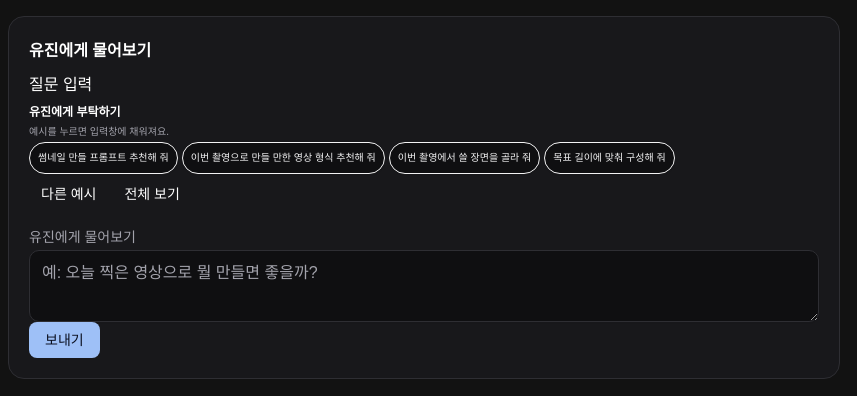
Scenario: HomeYujinChat › shows a plain message when Yujin cannot answer
The image size is (857, 396).
Type "안녕" into the text box labelled "유진에게 물어보기" at (424,286), box [29, 250, 819, 322]
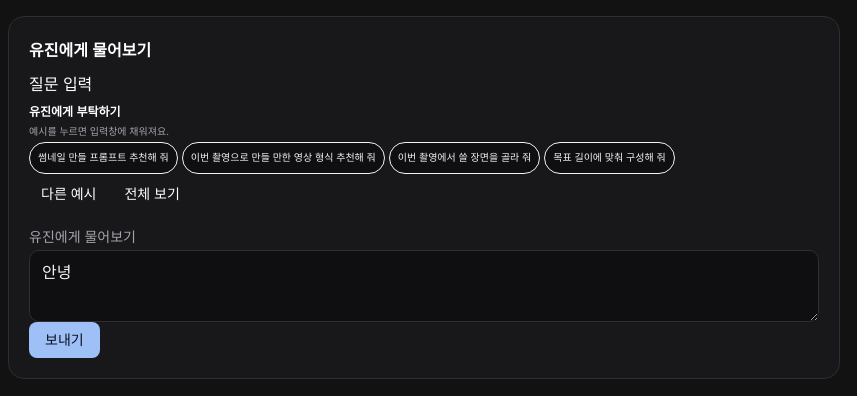
Click the button "보내기" at (64,340), box [29, 322, 100, 358]
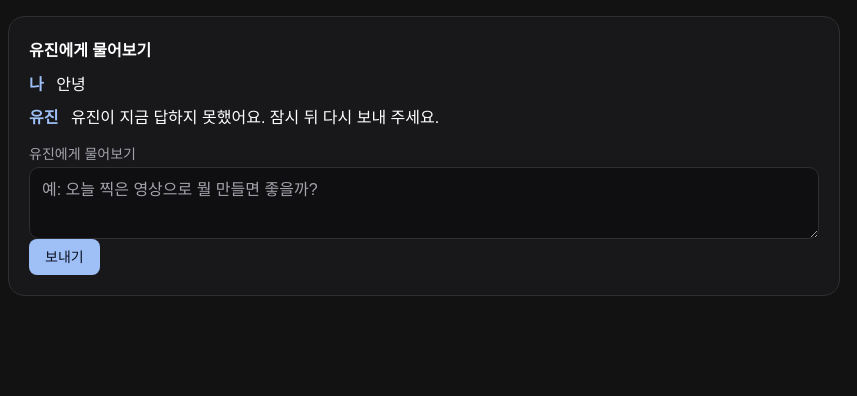
Expected: the text "유진이 지금 답하지 못했어요. 잠시 뒤 다시 보내 주세요." is shown, [71, 109, 439, 126]
